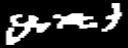great: (0, 0, 128, 48)
